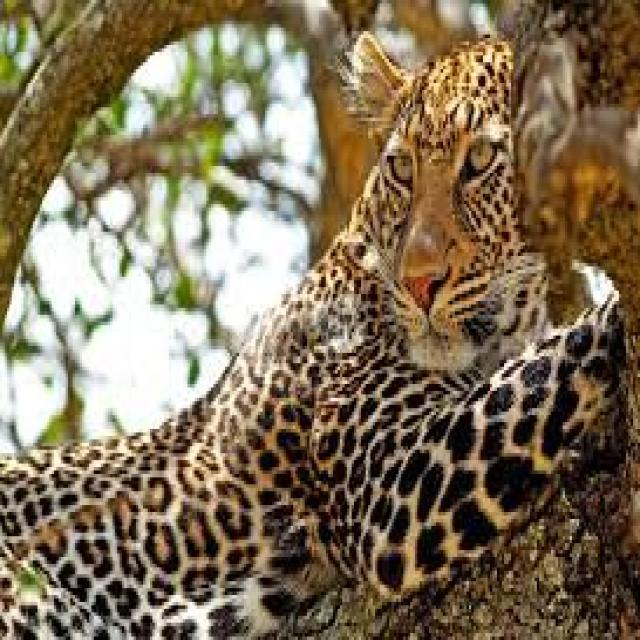Leopard: (0, 31, 617, 640)
